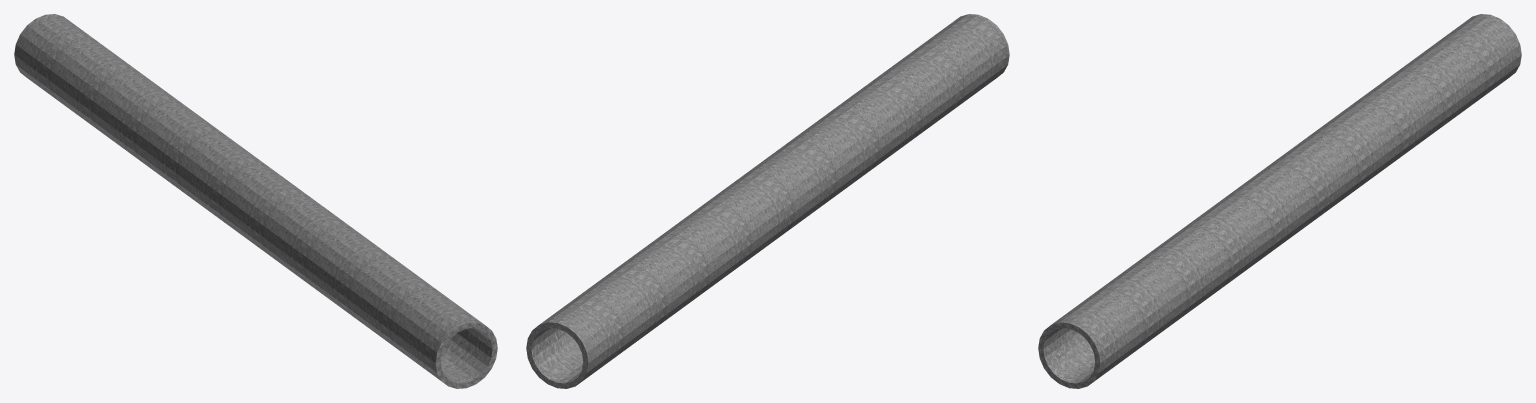
The model's file is pipe_son.fbx.
3 views of the same model, side by side, from view 1: azimuth 30°, elevation 25°; view 2: azimuth 150°, elevation 25°; view 3: azimuth 330°, elevation 25° (orthographic).
Parts seen in each view (by area): view 1: polySurface13, polySurface14, polySurface12, polySurface15, polySurface11, polySurface16, polySurface10, polySurface17, polySurface9, polySurface18, polySurface3, polySurface4 (+1 smaller); view 2: polySurface13, polySurface14, polySurface12, polySurface15, polySurface11, polySurface16, polySurface10, polySurface17, polySurface9, polySurface18, polySurface3, polySurface4 (+1 smaller); view 3: polySurface8, polySurface7, polySurface9, polySurface6, polySurface10, polySurface5, polySurface11, polySurface4, polySurface12, polySurface3, polySurface18, polySurface17 (+1 smaller).
Boxes of the visible parts, x1=… form: polySurface13: x1=20, y1=25, x2=451, y2=344; polySurface14: x1=16, y1=34, x2=445, y2=353; polySurface12: x1=27, y1=19, x2=458, y2=337; polySurface15: x1=14, y1=44, x2=441, y2=363; polySurface11: x1=36, y1=15, x2=466, y2=331; polySurface16: x1=14, y1=55, x2=441, y2=372; polySurface10: x1=45, y1=14, x2=476, y2=328; polySurface17: x1=16, y1=65, x2=445, y2=380; polySurface9: x1=55, y1=14, x2=484, y2=329; polySurface18: x1=24, y1=75, x2=451, y2=386; polySurface3: x1=445, y1=339, x2=491, y2=376; polySurface4: x1=450, y1=333, x2=495, y2=368; polySurface13: x1=573, y1=25, x2=1003, y2=344; polySurface14: x1=578, y1=34, x2=1007, y2=353; polySurface12: x1=565, y1=19, x2=996, y2=337; polySurface15: x1=582, y1=45, x2=1009, y2=363; polySurface11: x1=557, y1=15, x2=987, y2=331; polySurface16: x1=582, y1=55, x2=1009, y2=372; polySurface10: x1=548, y1=14, x2=978, y2=328; polySurface17: x1=578, y1=65, x2=1007, y2=380; polySurface9: x1=539, y1=14, x2=968, y2=329; polySurface18: x1=572, y1=75, x2=999, y2=386; polySurface3: x1=532, y1=339, x2=578, y2=376; polySurface4: x1=528, y1=333, x2=573, y2=368; polySurface8: x1=1084, y1=25, x2=1515, y2=344; polySurface7: x1=1090, y1=34, x2=1519, y2=353; polySurface9: x1=1077, y1=19, x2=1508, y2=337; polySurface6: x1=1094, y1=44, x2=1521, y2=363; polySurface10: x1=1069, y1=15, x2=1499, y2=331; polySurface5: x1=1094, y1=55, x2=1521, y2=372; polySurface11: x1=1059, y1=14, x2=1490, y2=328; polySurface4: x1=1090, y1=65, x2=1519, y2=380; polySurface12: x1=1051, y1=14, x2=1480, y2=329; polySurface3: x1=1084, y1=75, x2=1511, y2=386; polySurface18: x1=1044, y1=339, x2=1090, y2=376; polySurface17: x1=1040, y1=333, x2=1085, y2=368.
Bounding box in the file's own units: 3.59 × 3.59 × 42.12.
Materials: 1 (1 with a texture image).
